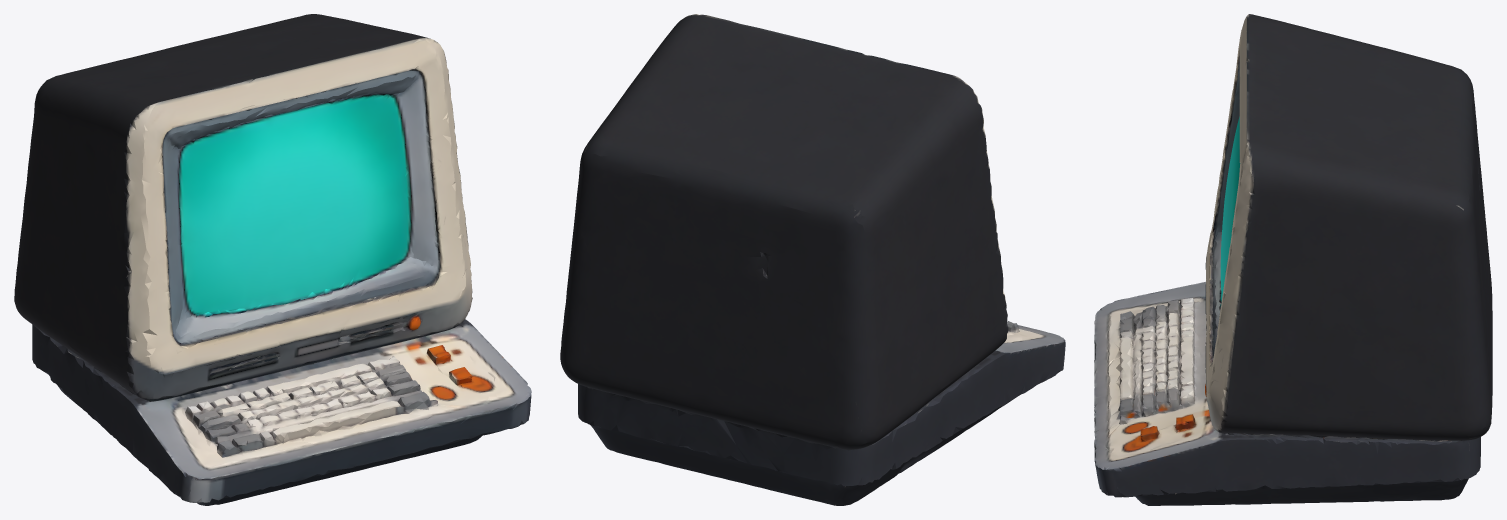
The model's file is Cyborg_PC.glb.
The picture shows the model from 3 angles, left to right: view 1: azimuth 30°, elevation 25°; view 2: azimuth 150°, elevation 25°; view 3: azimuth 270°, elevation 25°; orthographic projection. The views are drawn at different scales.
Parts seen in each view (by area): view 1: CyborgPC; view 2: CyborgPC; view 3: CyborgPC.
Boxes of the visible parts, x1,y1,x2,y2 form: CyborgPC: (14,14,531,505); CyborgPC: (560,14,1065,505); CyborgPC: (1094,14,1492,505).
Size of the model in its own units: 1.89 by 1.89 by 1.89.
1 material, 1 textured.
